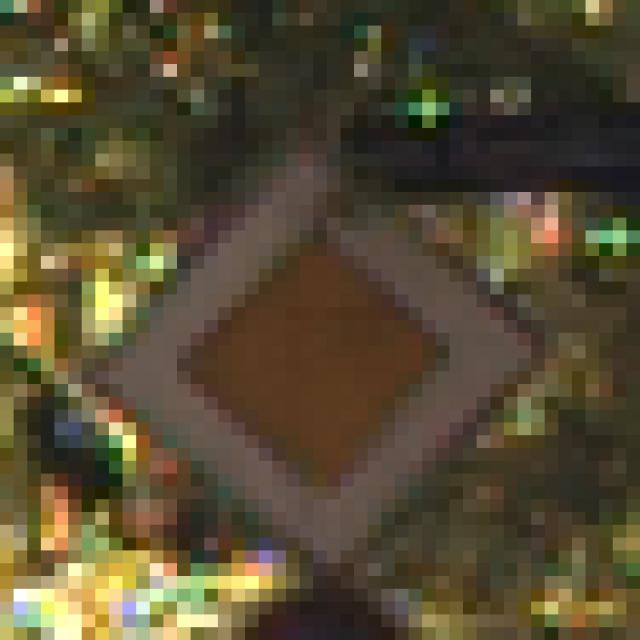Main Road: (83, 78, 559, 564)
